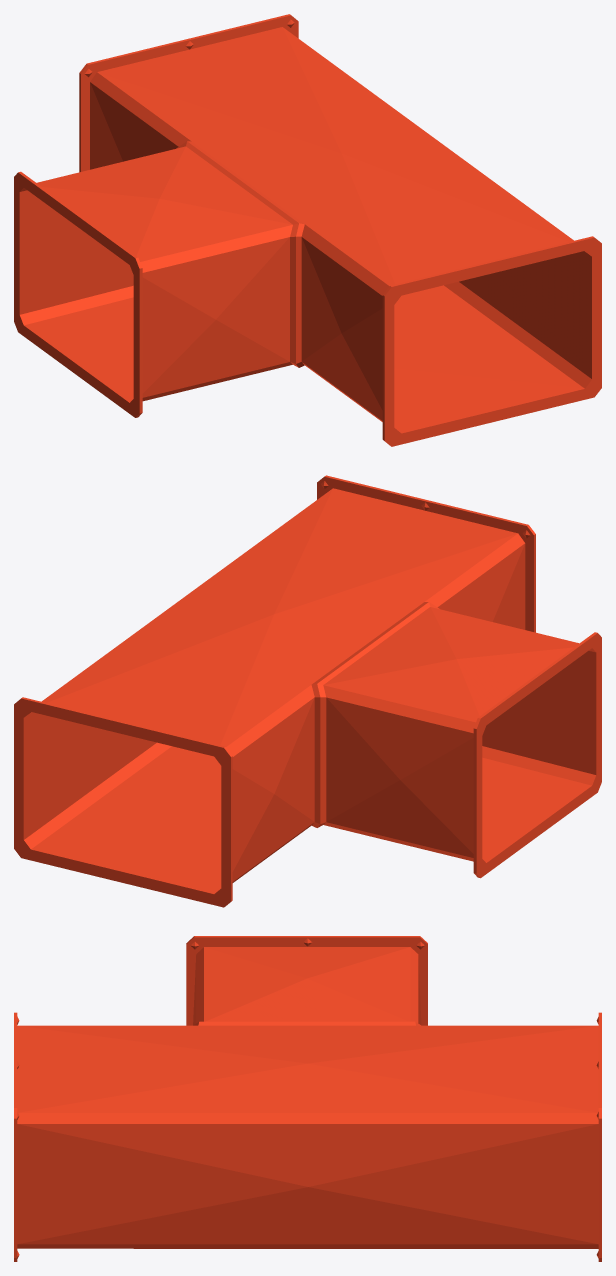
The model's file is SM_Vent_Cross_Sideway_City.fbx.
The picture shows the model from 3 angles, top to bottom: view 1: azimuth 30°, elevation 25°; view 2: azimuth 150°, elevation 25°; view 3: azimuth 270°, elevation 25°; orthographic projection. The views are drawn at different scales.
Parts seen in each view (by area): view 1: SM_Vent_Cross_Sideway_City; view 2: SM_Vent_Cross_Sideway_City; view 3: SM_Vent_Cross_Sideway_City.
Boxes of the visible parts, x1,y1,x2,y2 form: SM_Vent_Cross_Sideway_City: [14, 14, 601, 446]; SM_Vent_Cross_Sideway_City: [14, 475, 601, 907]; SM_Vent_Cross_Sideway_City: [14, 936, 601, 1261].
Size of the model in its own units: 1.41 by 0.578 by 2.
